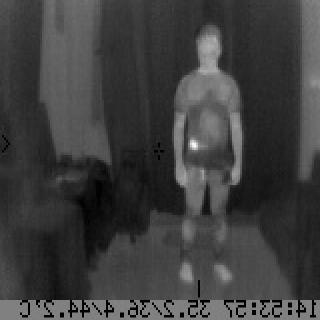Gun: (186, 137, 210, 185)
